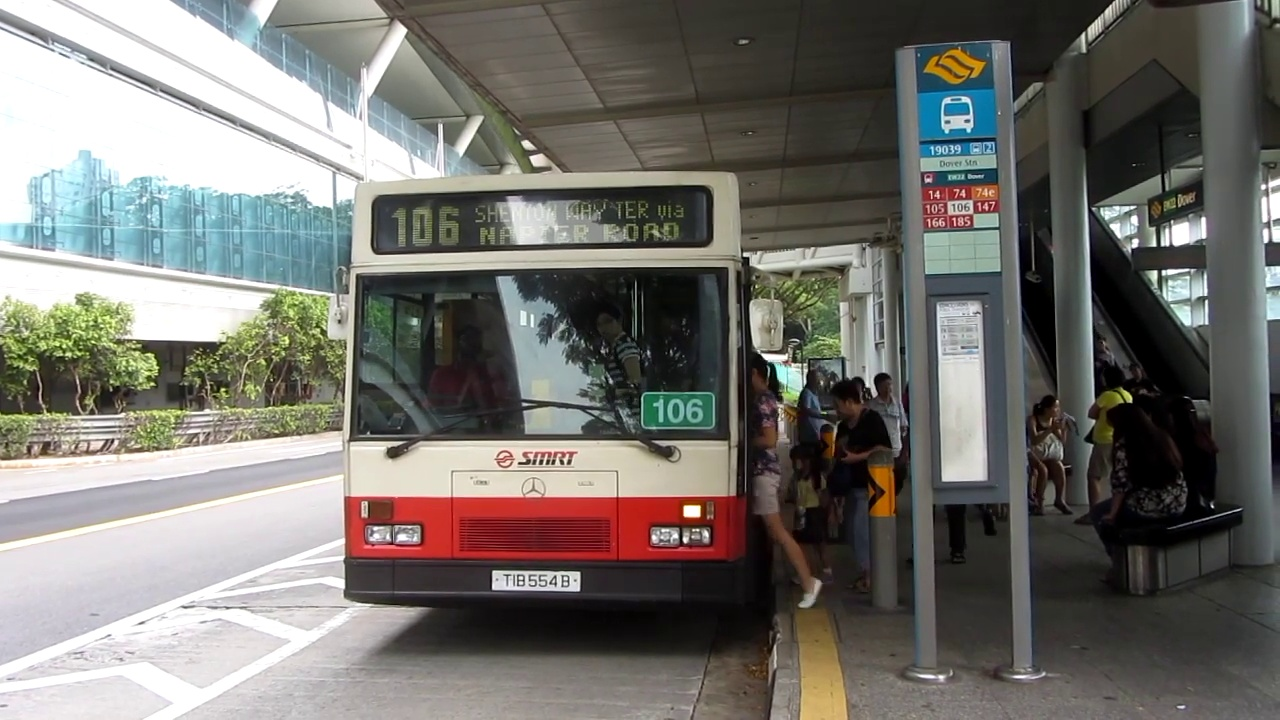bus panel: (369, 183, 717, 257)
